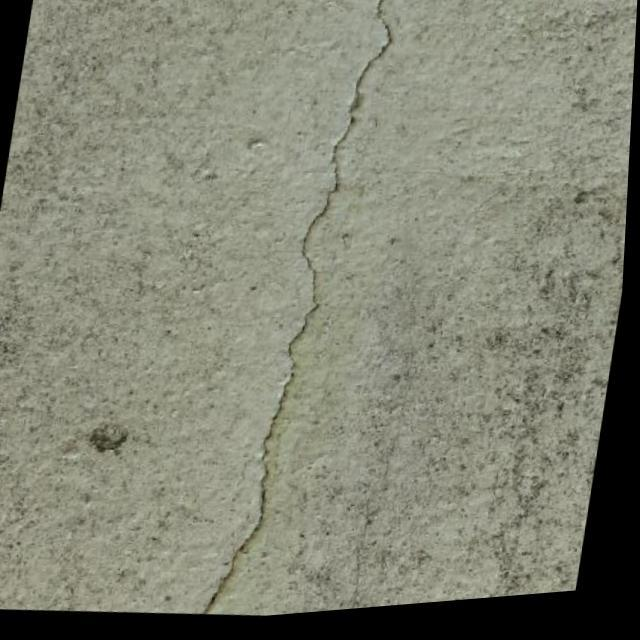Crack: (181, 2, 400, 596)
